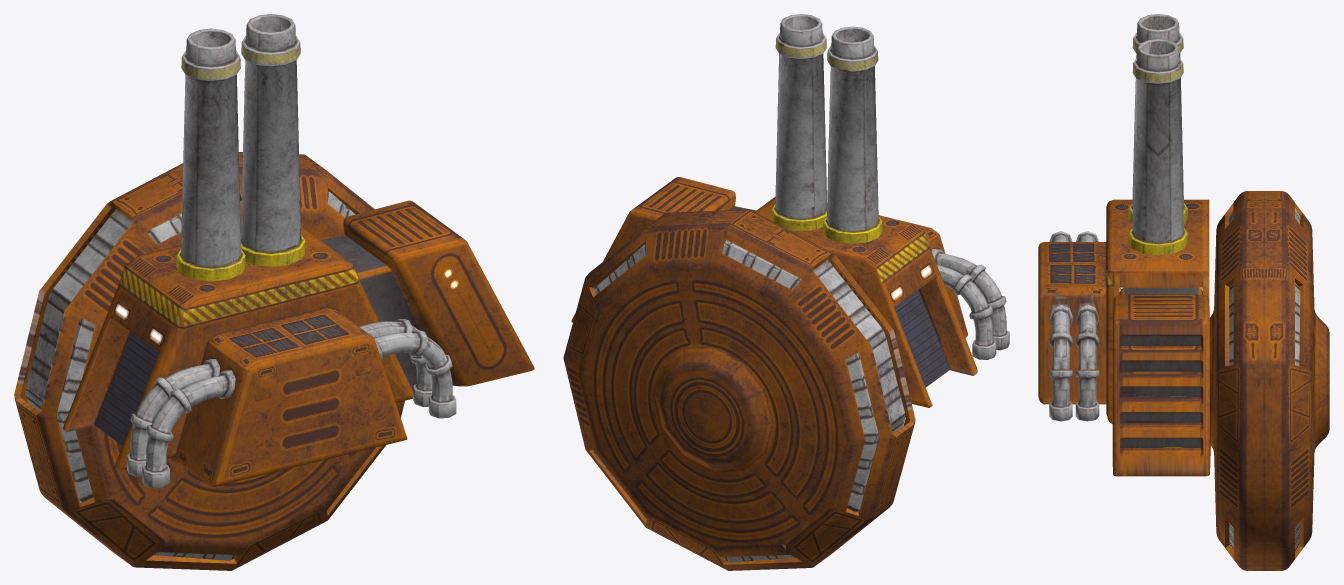
The model's file is power_generator.glb.
3 views of the same model, side by side, from view 1: azimuth 30°, elevation 25°; view 2: azimuth 150°, elevation 25°; view 3: azimuth 270°, elevation 25° (orthographic). The views are drawn at different scales.
Parts seen in each view (by area): view 1: Plane.010, Cylinder.022, Cube.001, Plane.008; view 2: Cylinder.022, Plane.010, Cube.001, Plane.008; view 3: Plane.010, Cylinder.022, Cube.001.
Boxes of the visible parts, x1,y1,x2,y2 form: Plane.010: (62,14,534,488); Cylinder.022: (14,152,404,570); Cube.001: (25,191,376,560); Plane.008: (94,332,158,445); Cylinder.022: (563,209,915,570); Plane.010: (571,14,1009,407); Cube.001: (593,240,905,562); Plane.008: (894,290,950,387); Plane.010: (1038,14,1210,476); Cylinder.022: (1209,191,1329,570); Cube.001: (1229,208,1300,551).
Bounding box in the file's own units: 0.6328 × 0.8396 × 0.4415.
Materials: 2 (2 with a texture image).
